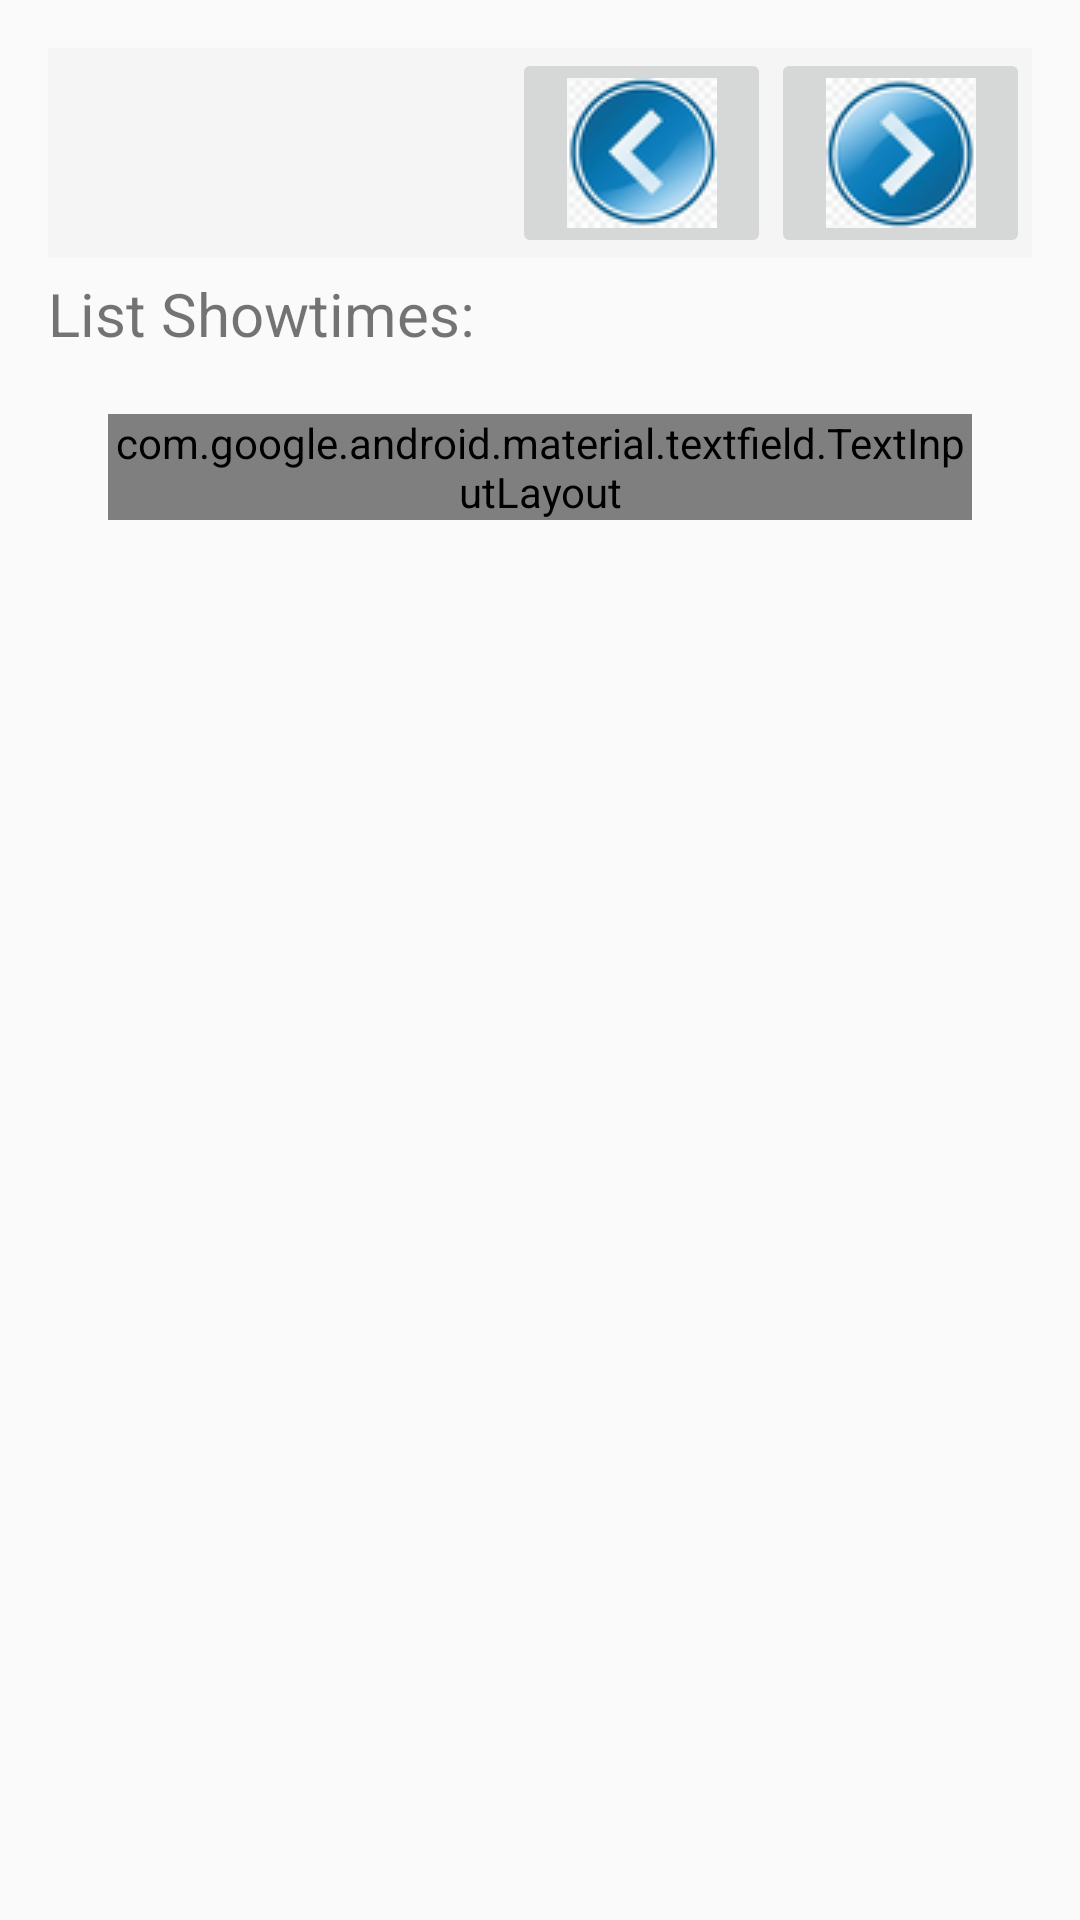

Named icons in this screenshot (1080*1920) and their centers, (x=x, y=y):
Next Day: (x=900, y=153)
Previous Day: (x=641, y=153)
